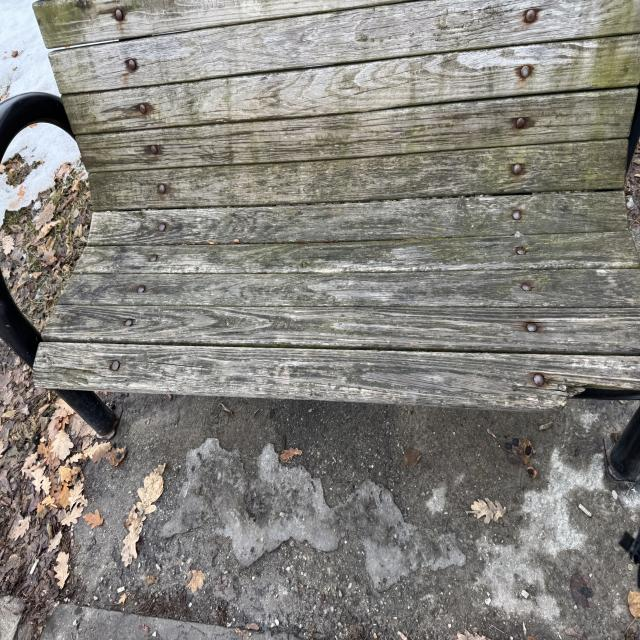Bench: (0, 0, 640, 454)
